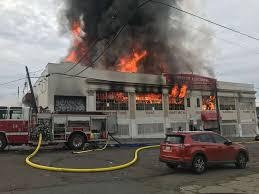fire: (113, 48, 191, 104), (65, 21, 88, 63), (114, 47, 146, 74), (201, 93, 216, 109)
